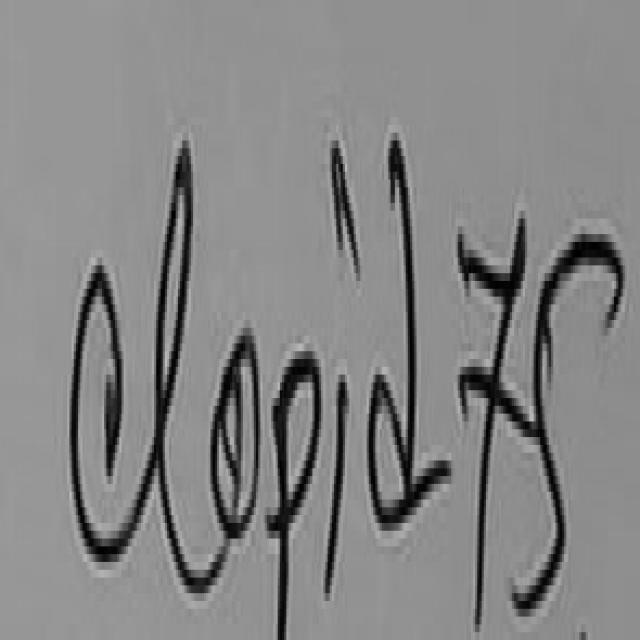5: (514, 234, 627, 613)
8: (460, 219, 534, 628)
C: (72, 265, 143, 562)
d: (369, 133, 451, 531)
i: (325, 375, 347, 597), (335, 140, 360, 277)
l: (124, 140, 226, 589)
o: (210, 336, 260, 535)
p: (267, 351, 321, 636)
